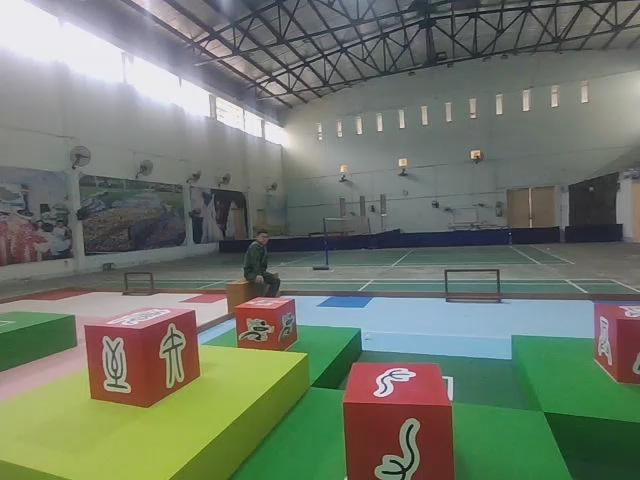R1: (232, 295, 301, 356)
R2 Fake: (80, 304, 203, 411)
R2 Real: (340, 357, 458, 480), (591, 297, 640, 387)
